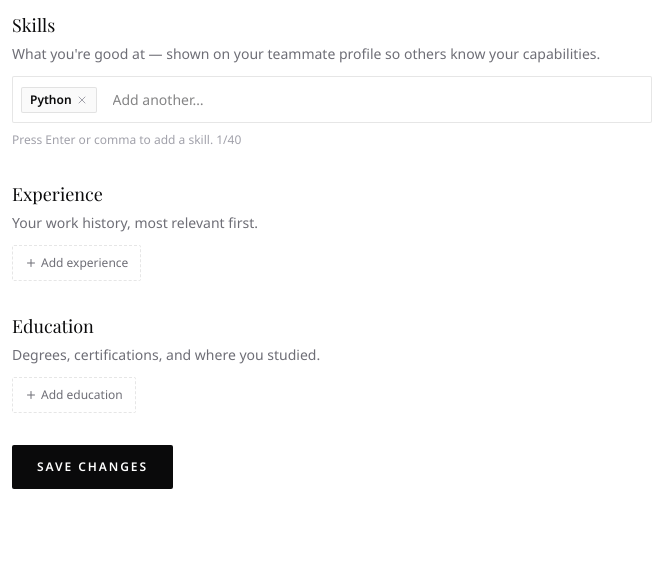
Test: QualificationsForm › shows a server error and does not claim success
What coordinates should you click on to do the following:
click the button "Save changes"
I would click on:
 (92, 467)
Its box is [12,445,173,489].
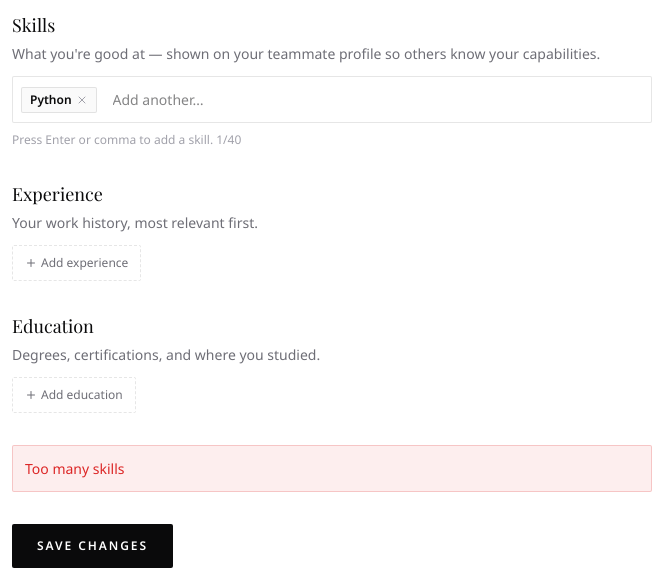
Expected: the text "Too many skills" is shown, [12,445,652,492]
